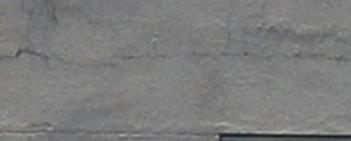termicas: (5, 30, 351, 78)
